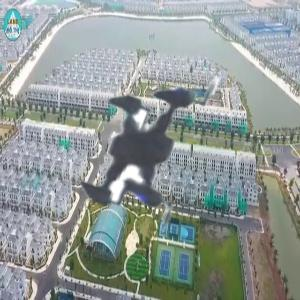drone: (3, 11, 284, 292)
